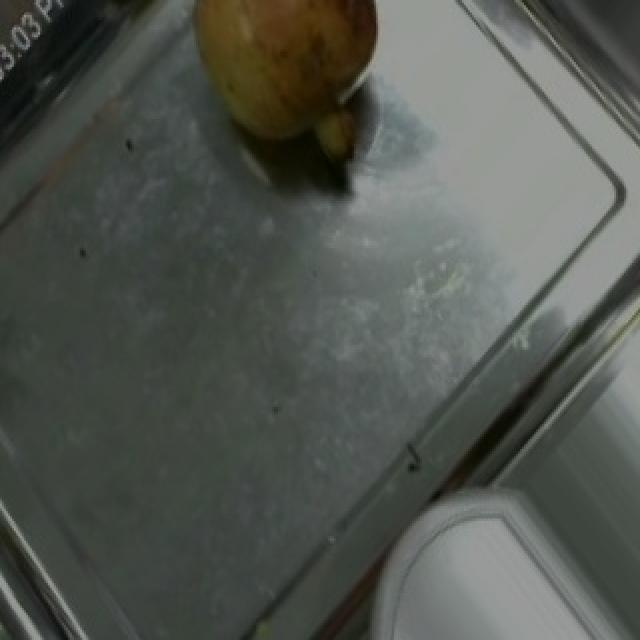fruit: (168, 0, 408, 171)
